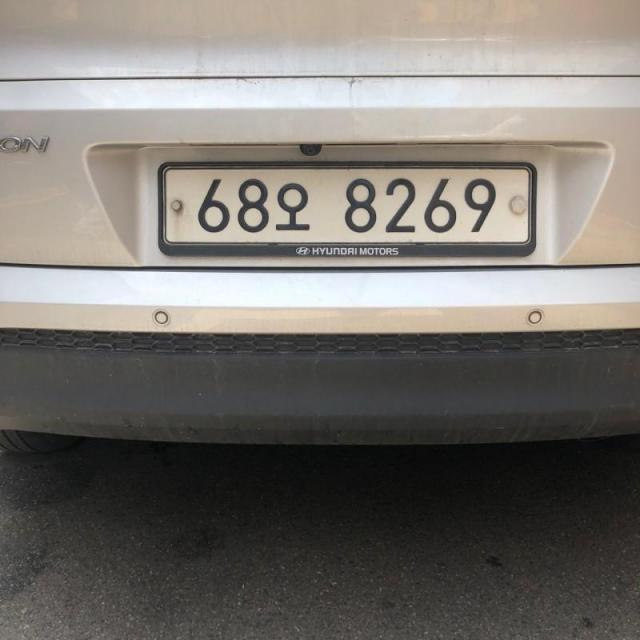illegal_plate: (152, 153, 543, 265)
